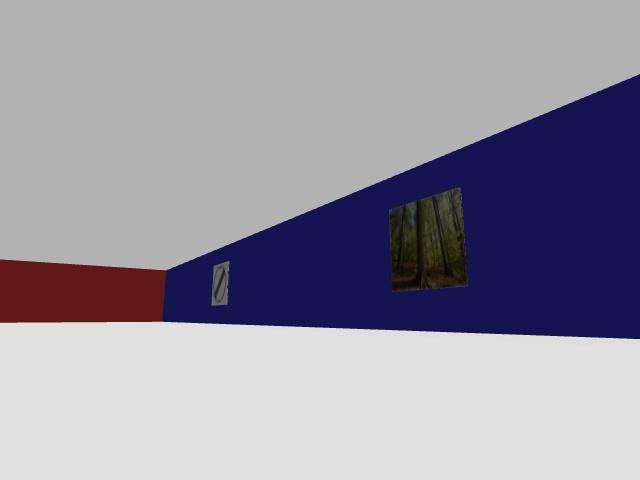fastsign: (416, 201, 426, 286), (211, 262, 229, 304)
tree: (431, 196, 451, 274), (447, 193, 464, 250), (416, 200, 425, 286), (396, 206, 407, 270), (397, 205, 406, 271)
